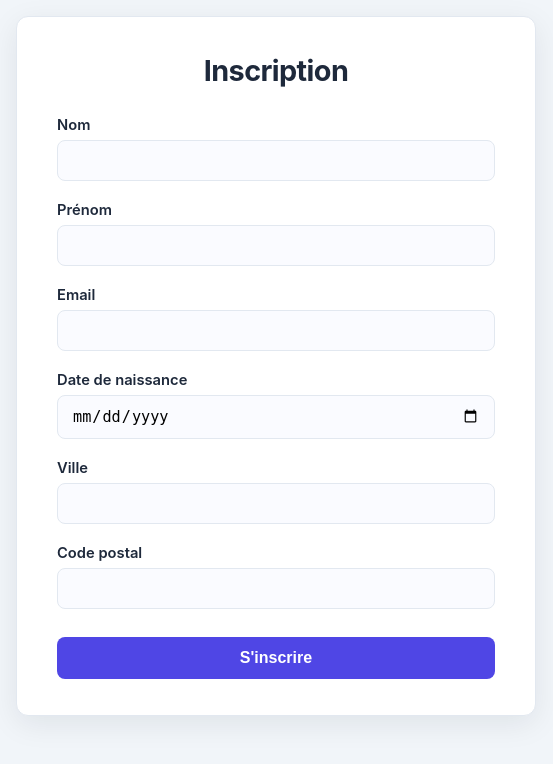
Scenario: RegisterForm › Soumission avec données invalides › affiche 6 messages d'erreur si tous les champs sont vides
Click the button "S'inscrire": (276, 658) [57,637,495,679]
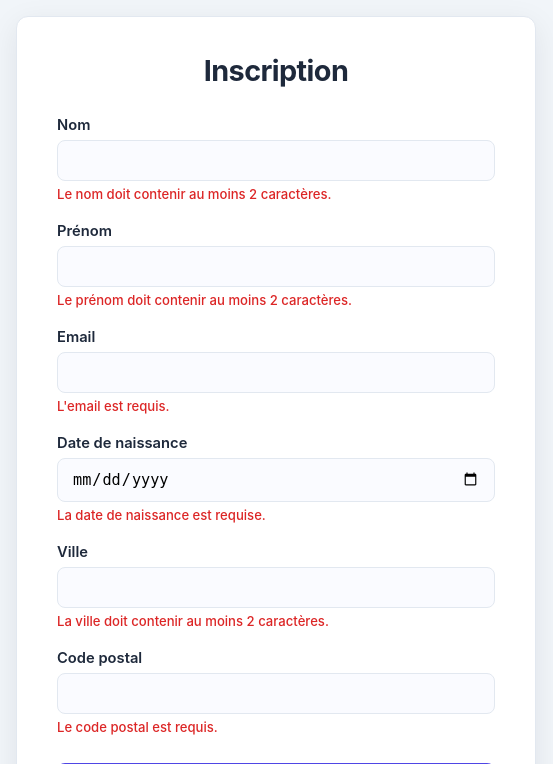
Expected: the number of messages is 6, [57,186,332,202]; [57,292,352,308]; [57,398,170,414]; [57,507,266,523]; [57,613,329,629]; [57,719,218,735]
